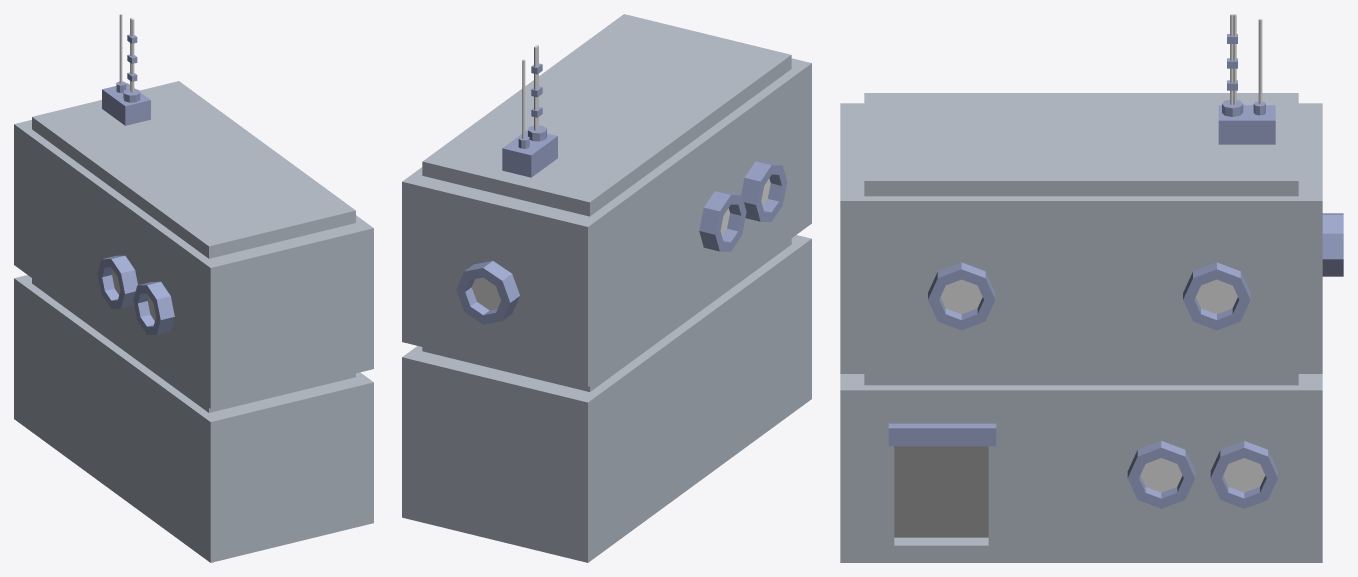
The model's file is Stockage 2.fbx.
The picture shows the model from 3 angles, left to right: view 1: azimuth 30°, elevation 25°; view 2: azimuth 150°, elevation 25°; view 3: azimuth 270°, elevation 25°; orthographic projection. The views are drawn at different scales.
Visible parts, largest first — view 1: Cube.006, Cube, Cylinder.010, Cylinder.011, Cube.002; view 2: Cube.006, Cube, Cylinder.009, Cylinder.011, Cylinder.010, Cube.002; view 3: Cube.006, Cube, Cylinder, Cylinder.007, Cylinder.001, Cylinder.008, Cube.001, Cube.002, Cylinder.009.
Boxes of the visible parts, x1,y1,x2,y2 form: Cube.006: (14,81,373,408); Cube: (14,275,373,562); Cylinder.010: (133,281,174,334); Cylinder.011: (97,255,137,308); Cube.002: (102,83,150,125); Cube.006: (402,14,811,387); Cube: (402,235,811,562); Cylinder.009: (456,261,519,324); Cylinder.011: (699,191,746,251); Cylinder.010: (741,161,787,221); Cube.002: (502,130,557,177); Cube.006: (840,93,1322,373); Cube: (840,374,1322,562); Cylinder: (1127,441,1195,508); Cylinder.007: (928,262,995,330); Cylinder.001: (1210,441,1277,508); Cylinder.008: (1183,262,1250,330); Cube.001: (888,423,996,446); Cube.002: (1218,105,1275,144); Cylinder.009: (1322,213,1343,276).
Size of the model in its own units: 232 by 476 by 435.
